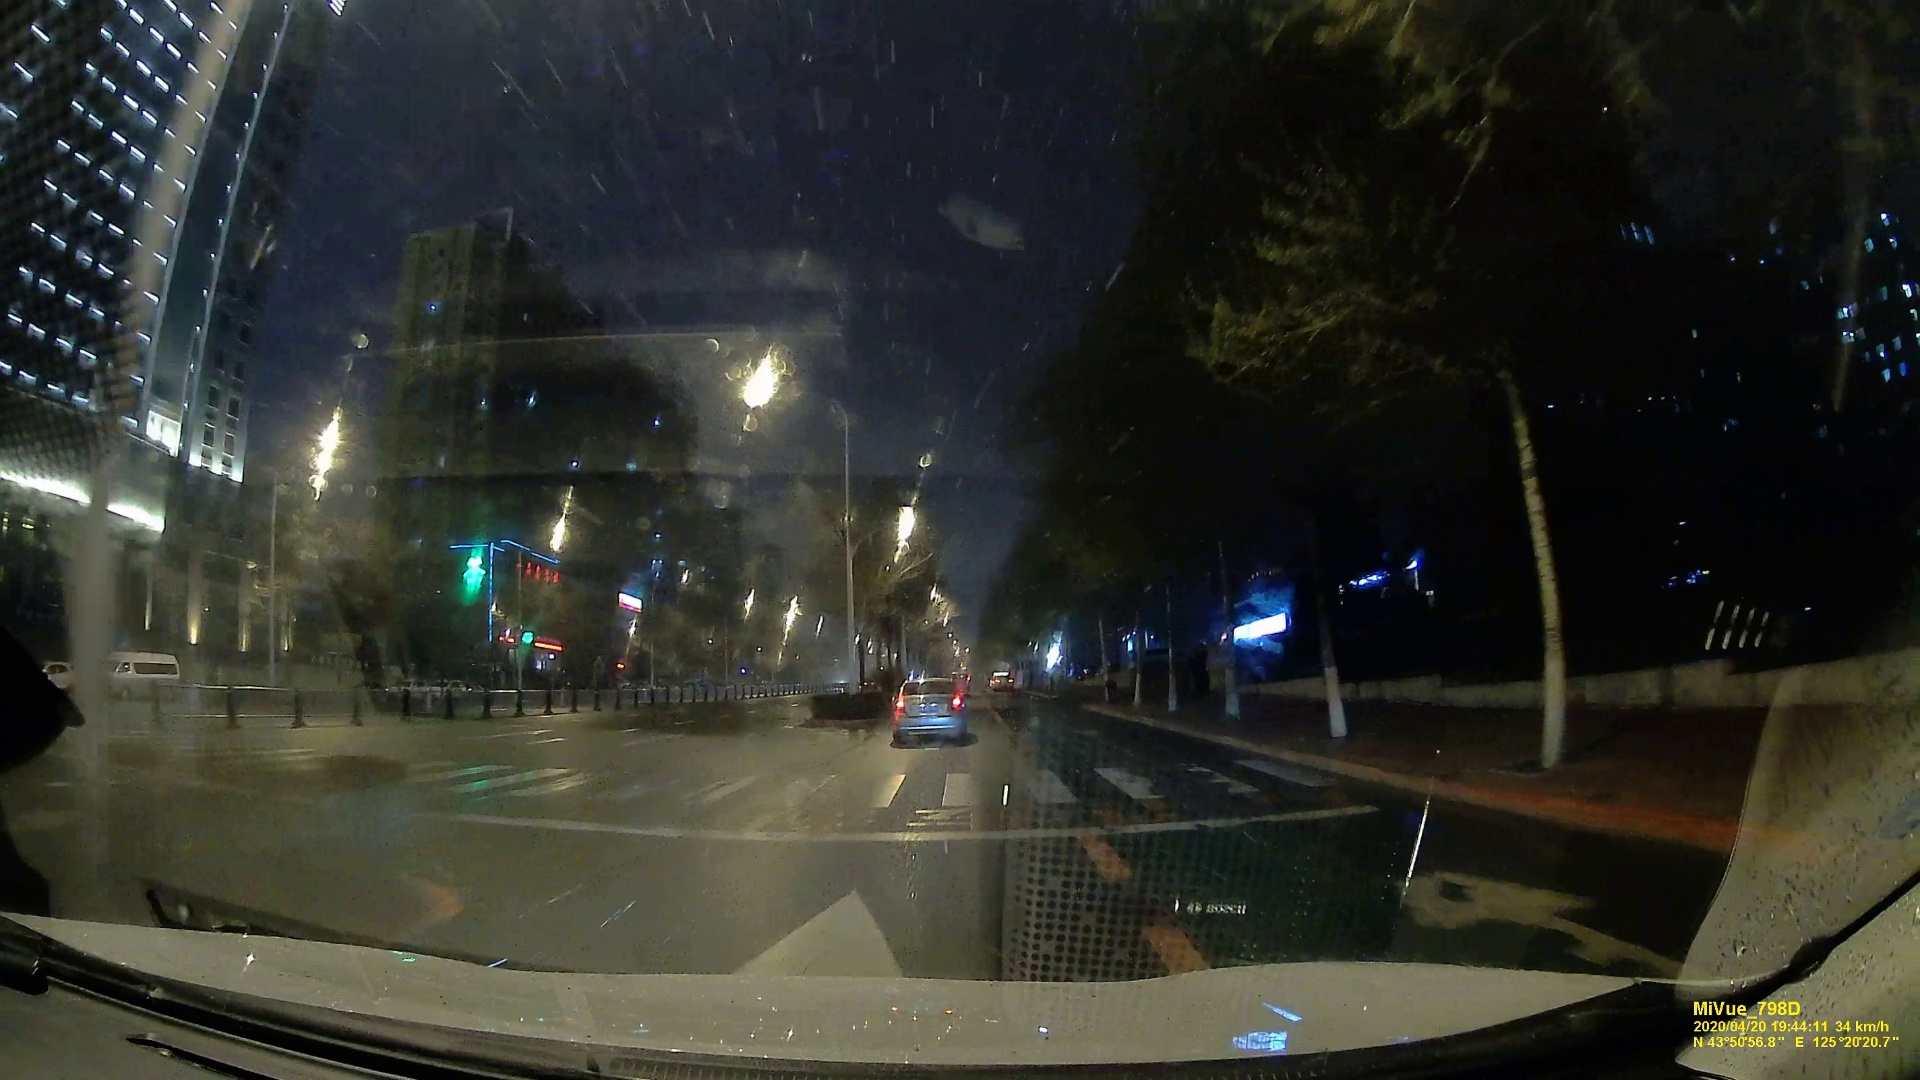minibus: (102, 650, 183, 696)
vehicle: (891, 678, 965, 746)
